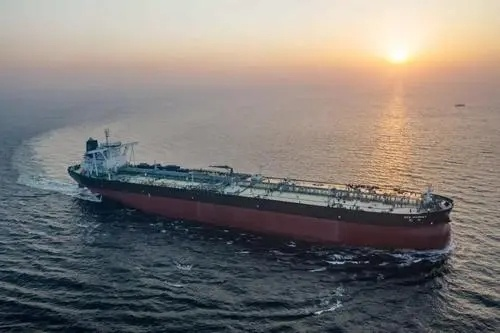Cargoship: (67, 128, 455, 253)
